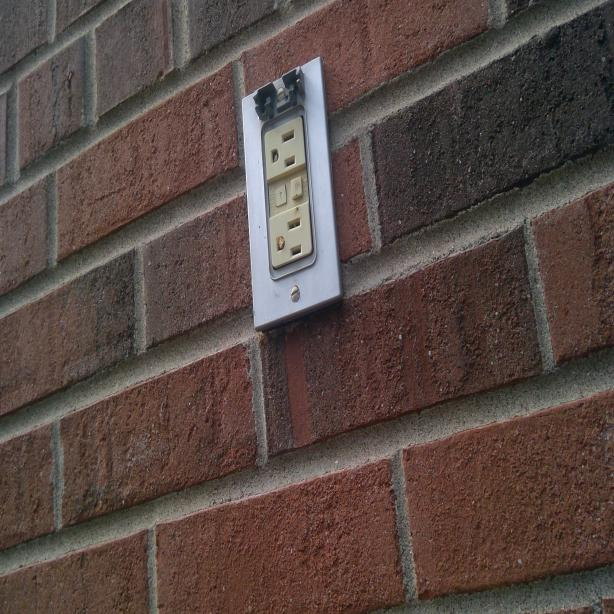typeb: (273, 213, 307, 261), (268, 130, 299, 172)
